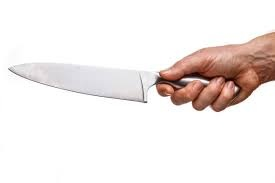knife: (7, 63, 239, 103)
